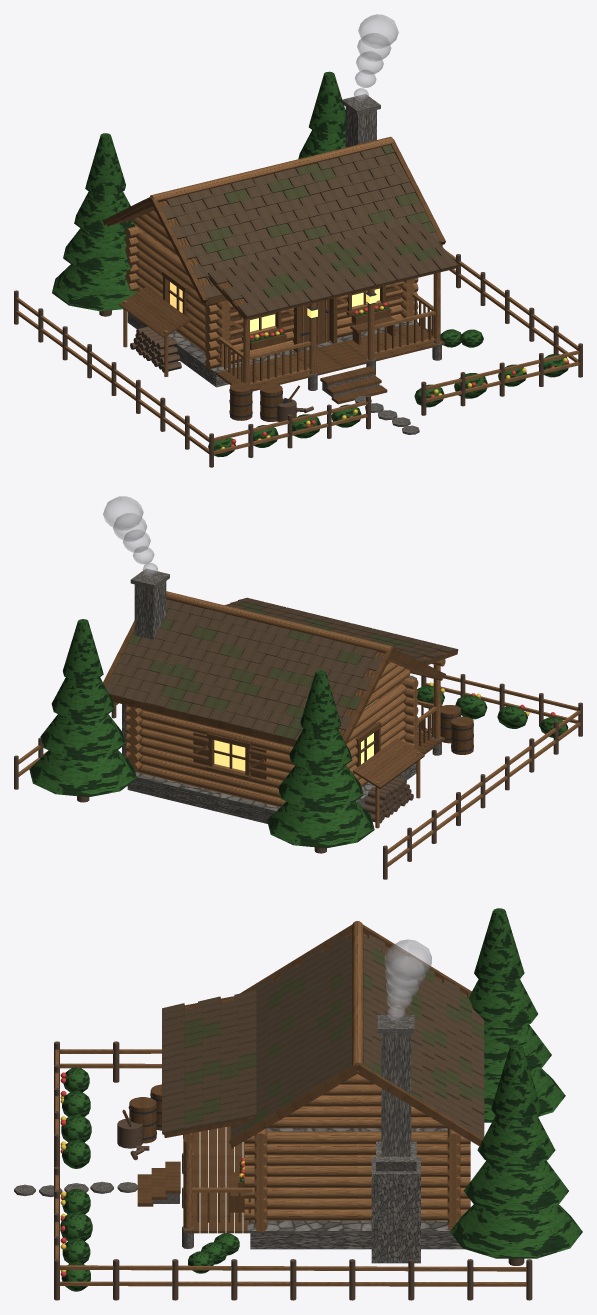
The model's file is cabana_espectacular_juego_draco.glb.
The picture shows the model from 3 angles, top to bottom: view 1: azimuth 30°, elevation 25°; view 2: azimuth 150°, elevation 25°; view 3: azimuth 270°, elevation 25°; orthographic projection. The views are drawn at different scales.
Visible parts, largest first — view 1: CB_Tablilla_-1_0_0, CB_Tronco_F-1_0_0, CB_Tablero_-1, CB_Hoja_J-1_0, CB_Lena_0_0, CB_Tablilla_-1_0_2, CB_Zocalo, CB_Humo_0, CB_VentanaFI_Luz; view 2: CB_Hoja_J-1_0, CB_Tablilla_-1_0_0, CB_Tronco_F-1_0_0, CB_Tablero_-1, CB_Zocalo, CB_Tablilla_-1_0_2, CB_Lena_0_0, CB_Humo_0, CB_VentanaFI_Luz; view 3: CB_Tablilla_-1_0_0, CB_Tronco_F-1_0_0, CB_Hoja_J-1_0, CB_Zocalo, CB_Tablero_-1, CB_Tablilla_-1_0_2, CB_Lena_0_0, CB_Humo_0.
Part boxes in pixels (left/top/right/bottom): CB_Tablilla_-1_0_0: left=161, top=147, right=458, bottom=317; CB_Tronco_F-1_0_0: left=16, top=136, right=579, bottom=454; CB_Tablero_-1: left=103, top=139, right=457, bottom=421; CB_Hoja_J-1_0: left=52, top=71, right=569, bottom=457; CB_Lena_0_0: left=14, top=254, right=582, bottom=467; CB_Tablilla_-1_0_2: left=201, top=144, right=440, bottom=297; CB_Zocalo: left=127, top=94, right=441, bottom=434; CB_Humo_0: left=353, top=14, right=398, bottom=100; CB_VentanaFI_Luz: left=170, top=282, right=379, bottom=331; CB_Hoja_J-1_0: left=29, top=619, right=568, bottom=848; CB_Tablilla_-1_0_0: left=105, top=597, right=458, bottom=740; CB_Tronco_F-1_0_0: left=18, top=591, right=580, bottom=866; CB_Tablero_-1: left=103, top=610, right=473, bottom=788; CB_Zocalo: left=122, top=568, right=441, bottom=823; CB_Tablilla_-1_0_2: left=128, top=603, right=416, bottom=739; CB_Lena_0_0: left=14, top=674, right=582, bottom=879; CB_Humo_0: left=103, top=496, right=157, bottom=575; CB_VentanaFI_Luz: left=214, top=699, right=377, bottom=770; CB_Tablilla_-1_0_0: left=162, top=934, right=484, bottom=1139; CB_Tronco_F-1_0_0: left=55, top=921, right=526, bottom=1286; CB_Hoja_J-1_0: left=60, top=908, right=582, bottom=1291; CB_Zocalo: left=14, top=1015, right=464, bottom=1263; CB_Tablero_-1: left=122, top=924, right=482, bottom=1233; CB_Tablilla_-1_0_2: left=184, top=947, right=484, bottom=1131; CB_Lena_0_0: left=54, top=1041, right=532, bottom=1300; CB_Humo_0: left=384, top=939, right=431, bottom=1020.
Size of the model in its own units: 12.14 by 8.36 by 13.25.
13 materials, 7 textured.
